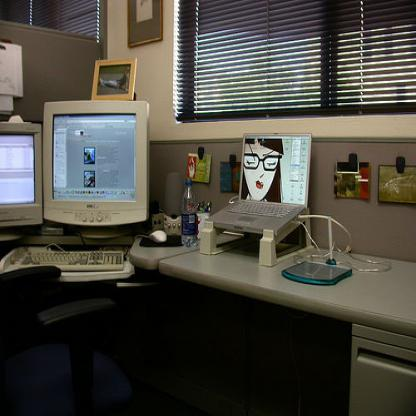tvmonitor: (42, 99, 149, 244), (0, 121, 44, 243)
